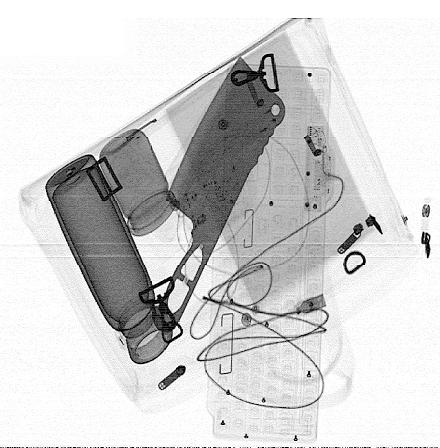Knife: (150, 54, 287, 334)
